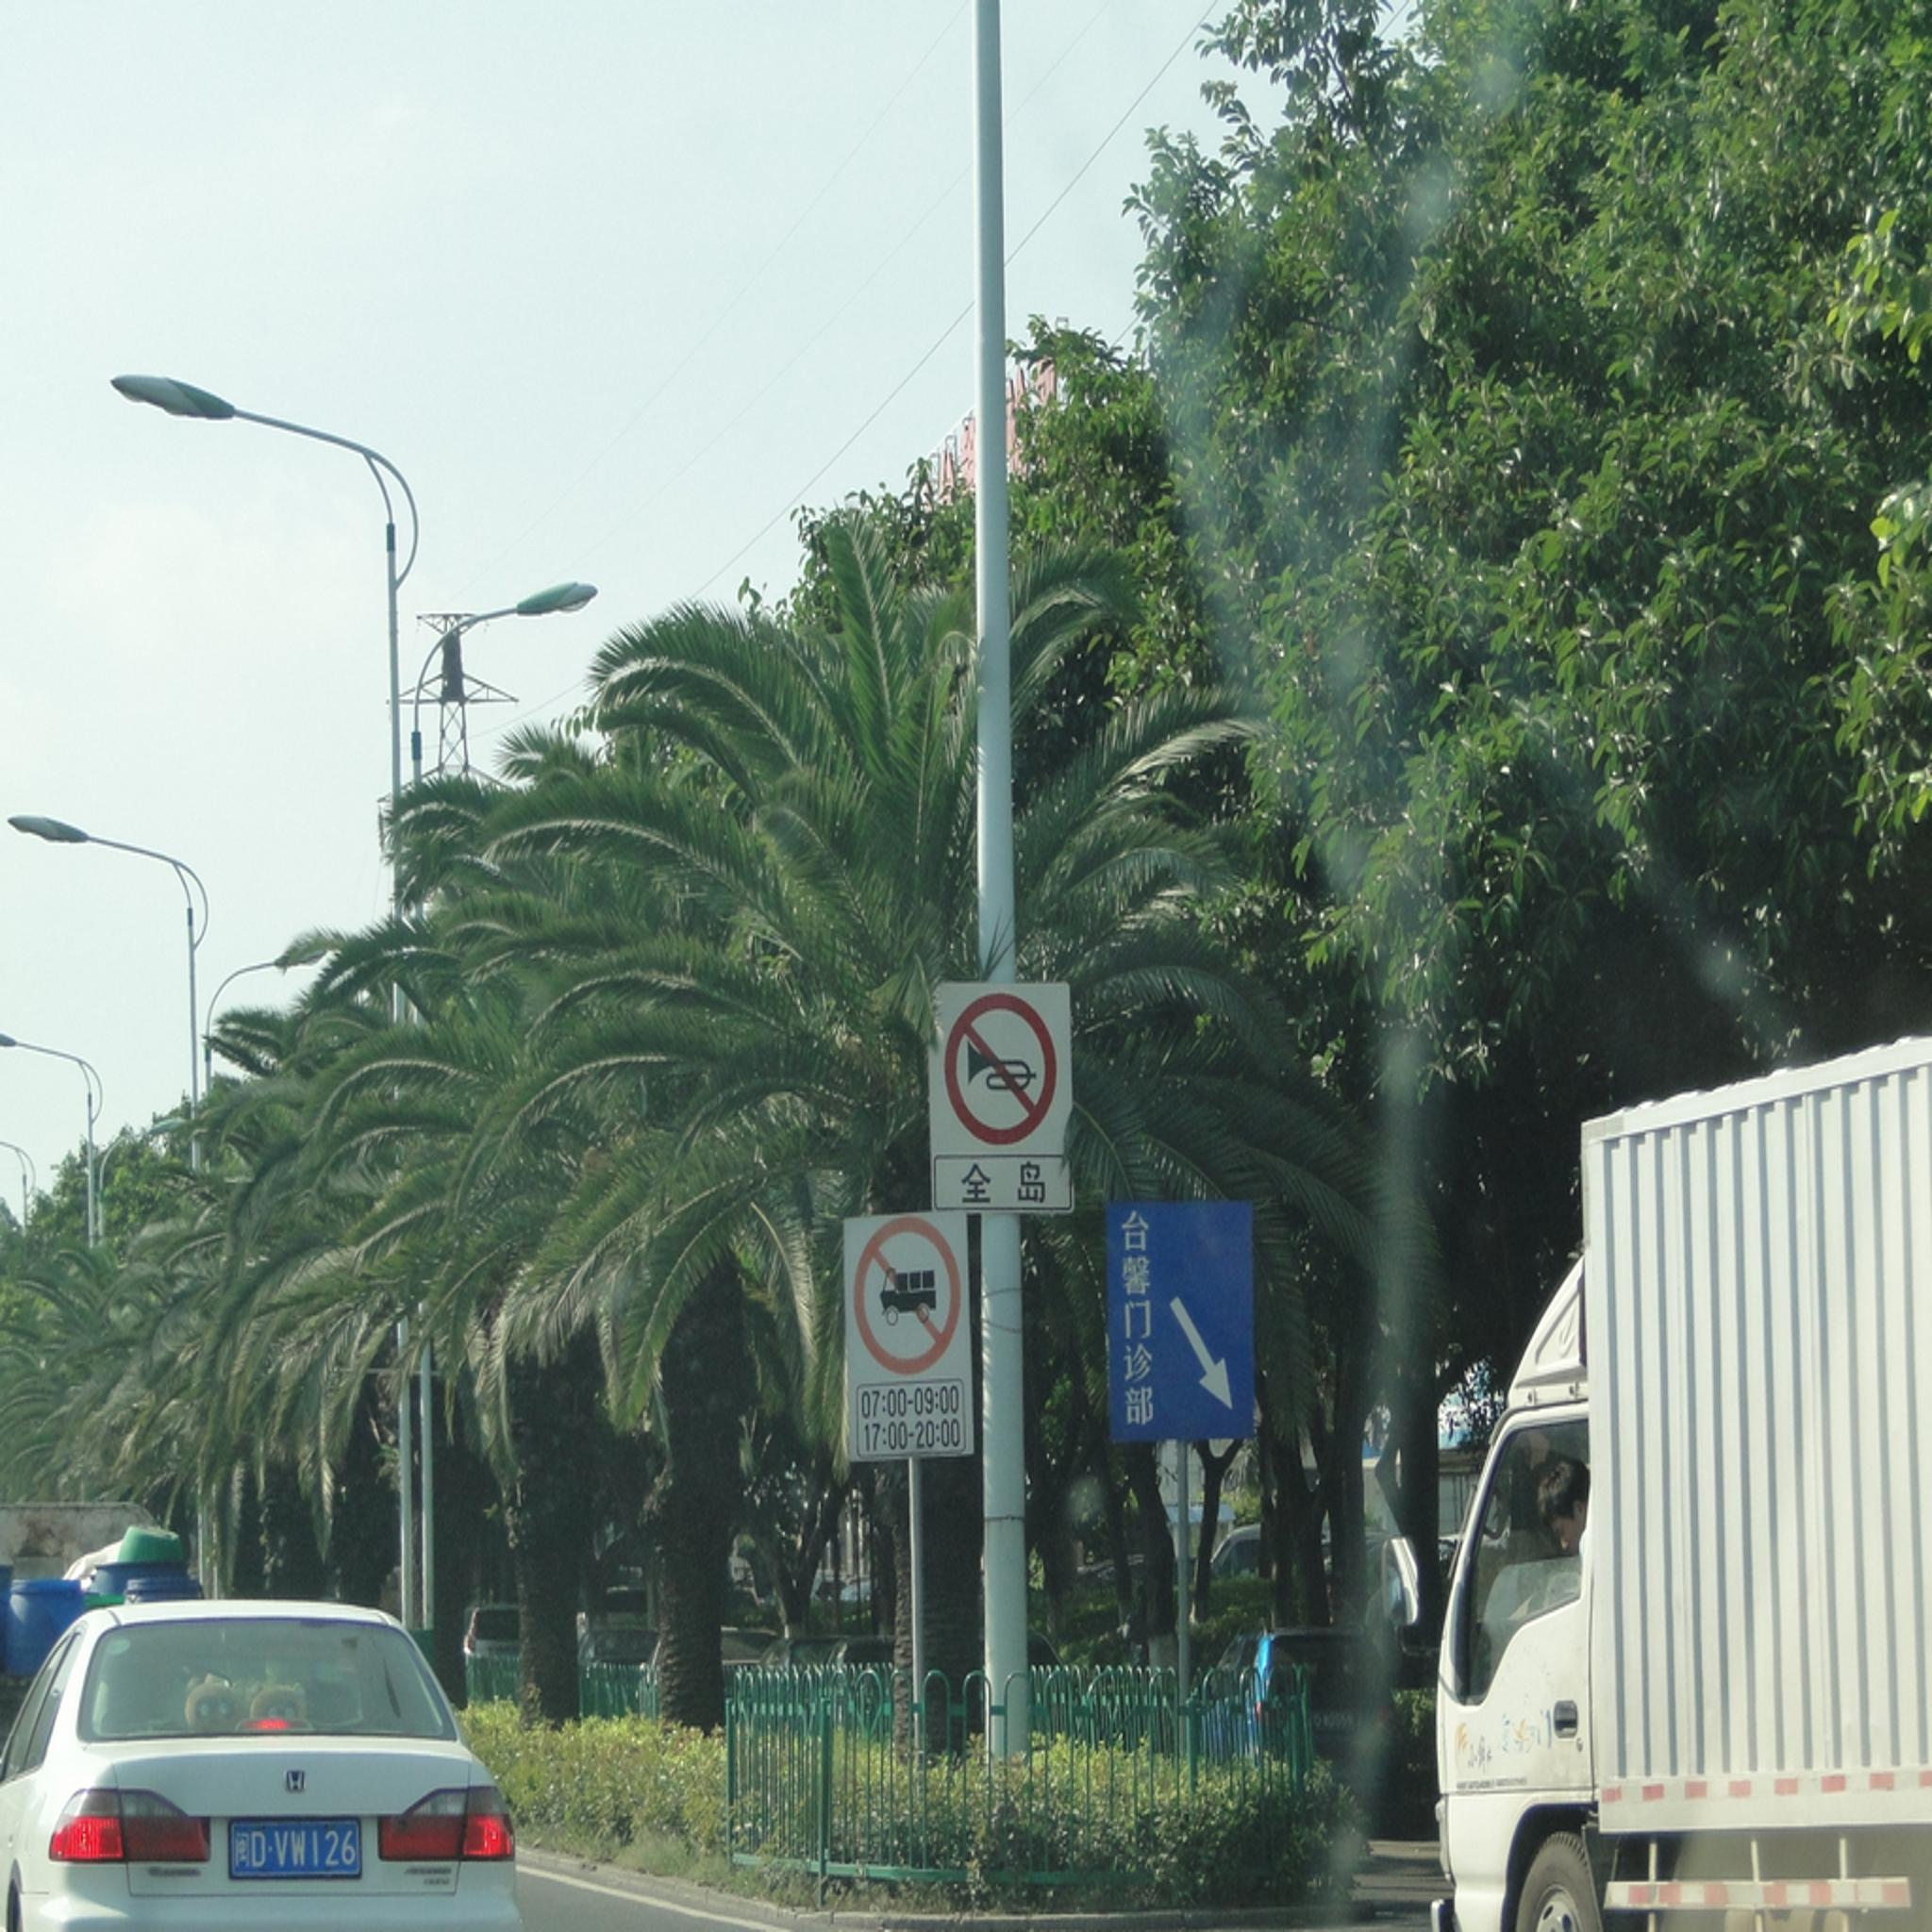p11: (939, 993, 1054, 1161)
p26: (862, 1221, 950, 1366)
